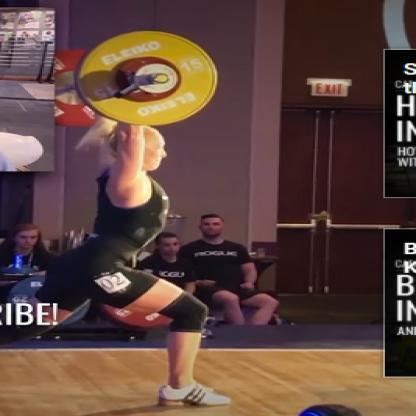barbell: (55, 29, 218, 126)
